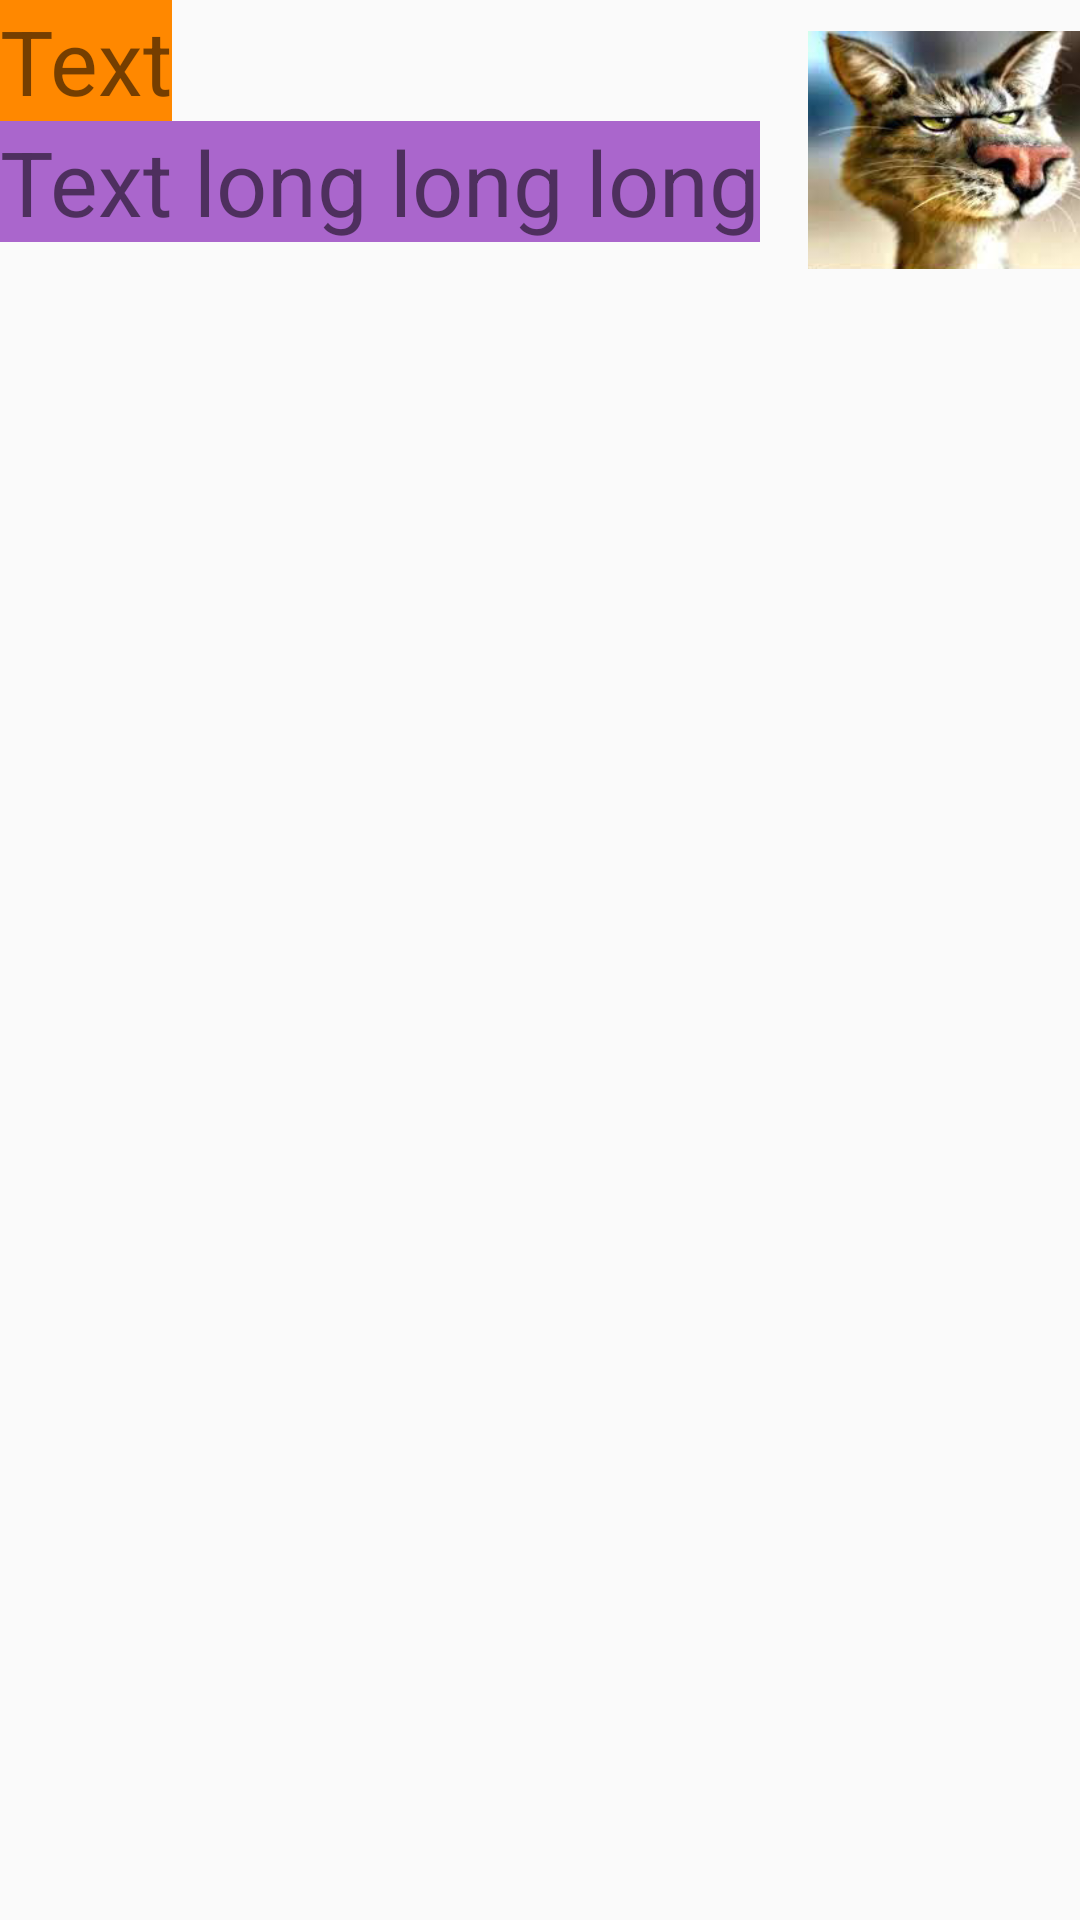

Icons on this 1080px x 1920px Android screen, each with its box as {"left": x1, "top": y1, "right": x2, "bottom": y2}:
cat: {"left": 808, "top": 31, "right": 1080, "bottom": 269}
